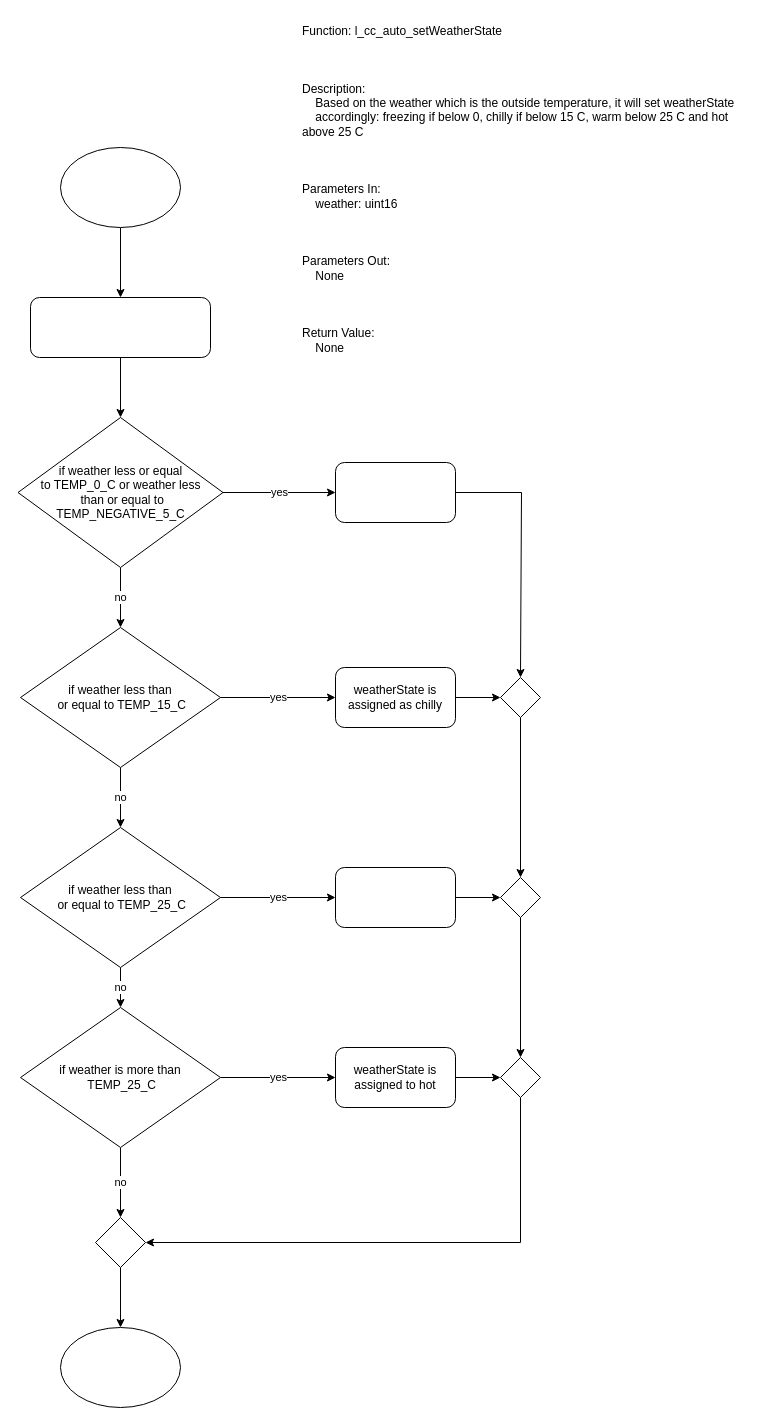
Some shapes in this 767 by 1425 pixel diagram are drawn without their labels. The centre of each missing label's shape, as x and y in pixels:
call l_cc_auto_setWeatherState: (120,327)
weatherState is assigned as freezing: (395,492)
weatherState is assigned to warm: (395,897)
